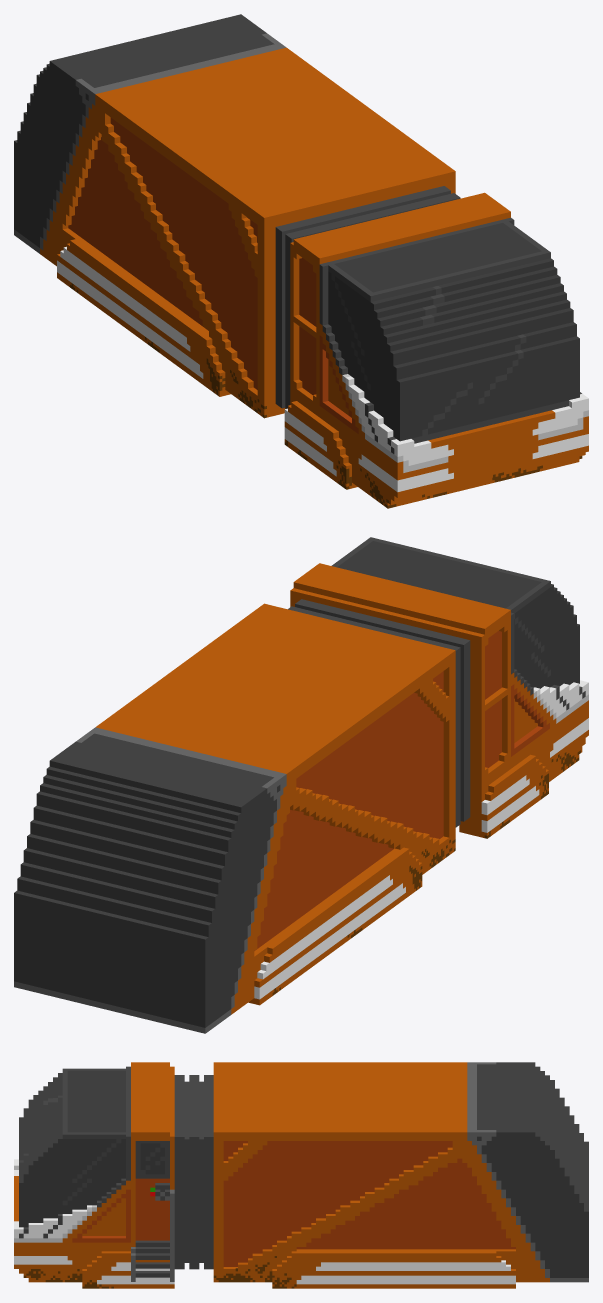
Rendered from OrangeGarbagetruck-3.obj.
3 renders of one model, top to bottom at view 1: azimuth 30°, elevation 25°; view 2: azimuth 150°, elevation 25°; view 3: azimuth 270°, elevation 25°, orthographic. The views are drawn at different scales.
Size of the model in its own units: 7.4 by 7 by 23.6.
1 material, 1 textured.
